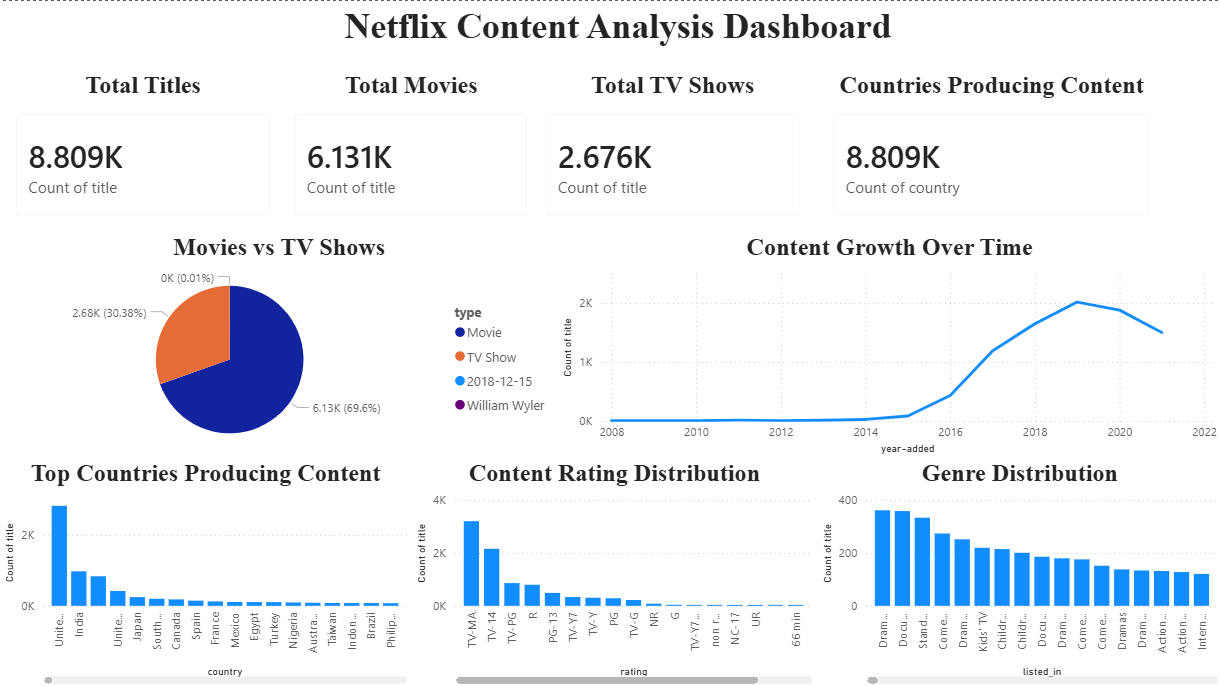

Layout of this report page (visuals, bound fields, positions):
{"tool":"powerbi","page":{"name":"Page 1","canvas":[1280,720],"ordinal":0},"visuals":[{"type":"cardVisual","title":"Total Movies","fields":{"Data":["CountNonNull(netflix_cleaned_data.title)"]},"box":[291.6,74,279,169.1],"z":0},{"type":"cardVisual","title":"Total Titles","fields":{"Data":["CountNonNull(netflix_cleaned_data.title)"]},"box":[0,74,300.1,169.1],"z":1000},{"type":"cardVisual","title":"Total TV Shows","fields":{"Data":["CountNonNull(netflix_cleaned_data.title)"]},"box":[555.8,74,300.1,169.1],"z":2000},{"type":"cardVisual","title":"Countries Producing Content","fields":{"Data":["CountNonNull(netflix_cleaned_data.country)"]},"box":[855.9,74,365.6,169.1],"z":3000},{"type":"pieChart","title":"Movies vs TV Shows","fields":{"Category":["netflix_cleaned_data.type"],"Y":["CountNonNull(netflix_cleaned_data.title)"]},"box":[0,243,585.4,236.7],"z":4000},{"type":"lineChart","title":"Content Growth Over Time","fields":{"Category":["netflix_cleaned_data.year-added"],"Y":["CountNonNull(netflix_cleaned_data.title)"]},"box":[585.4,243,695.3,236.7],"z":5000},{"type":"columnChart","title":"Top Countries Producing Content","fields":{"Category":["netflix_cleaned_data.country"],"Y":["CountNonNull(netflix_cleaned_data.title)"]},"box":[0,479.7,431.1,240.9],"z":6000},{"type":"columnChart","title":"Content Rating Distribution","fields":{"Category":["netflix_cleaned_data.rating"],"Y":["CountNonNull(netflix_cleaned_data.title)"]},"box":[431.1,479.7,424.8,240.9],"z":7000},{"type":"columnChart","title":"Genre Distribution","fields":{"Category":["netflix_cleaned_data.listed_in"],"Y":["CountNonNull(netflix_cleaned_data.title)"]},"box":[855.9,479.7,424.8,240.9],"z":8000},{"type":"textbox","box":[291.6,0,712.2,57.1],"z":8001}]}

Visuals, with their boxes in screenshot pixels (x1, y1, x2, y2), scaled from the page's 1280x720 canvas onto the 1220x686 screenshot:
"Total Movies" cardVisual: pyautogui.locateOnScreen(278, 71, 544, 232)
"Total Titles" cardVisual: pyautogui.locateOnScreen(0, 71, 286, 232)
"Total TV Shows" cardVisual: pyautogui.locateOnScreen(530, 71, 816, 232)
"Countries Producing Content" cardVisual: pyautogui.locateOnScreen(816, 71, 1164, 232)
"Movies vs TV Shows" pieChart: pyautogui.locateOnScreen(0, 232, 558, 457)
"Content Growth Over Time" lineChart: pyautogui.locateOnScreen(558, 232, 1219, 457)
"Top Countries Producing Content" columnChart: pyautogui.locateOnScreen(0, 457, 411, 685)
"Content Rating Distribution" columnChart: pyautogui.locateOnScreen(411, 457, 816, 685)
"Genre Distribution" columnChart: pyautogui.locateOnScreen(816, 457, 1219, 685)
textbox: pyautogui.locateOnScreen(278, 0, 957, 54)
